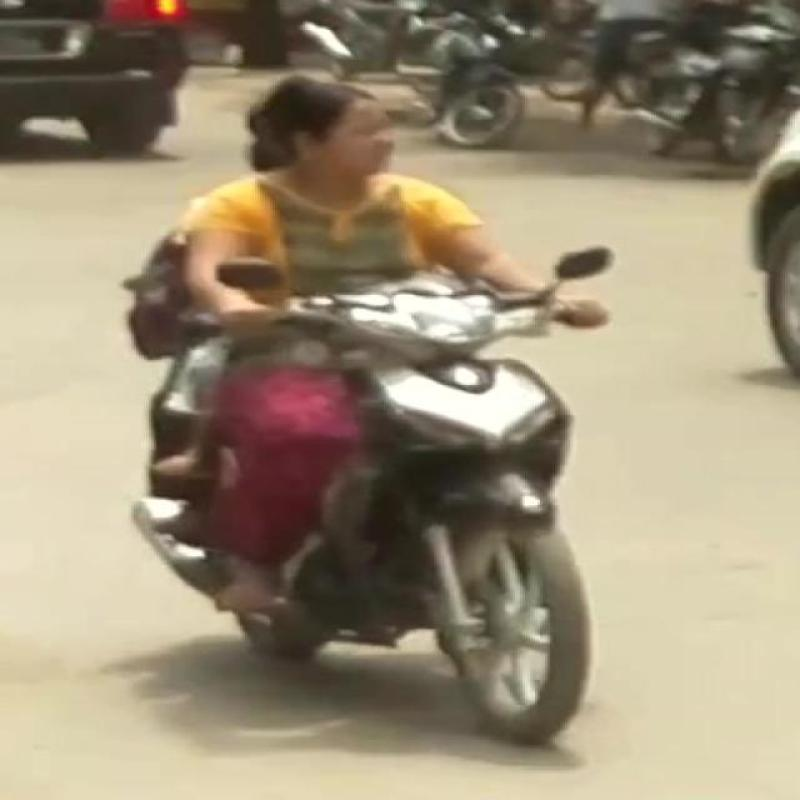nohelmet: (222, 60, 458, 200)
